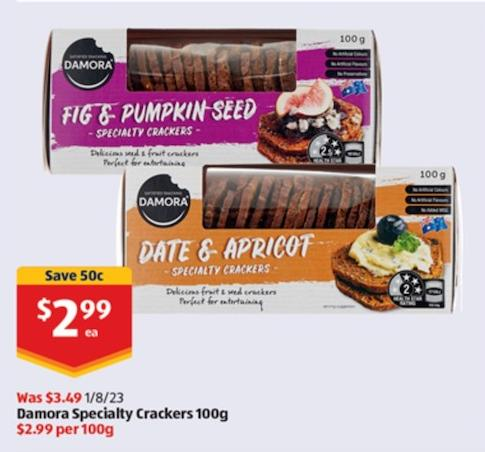description_block: (6, 404, 250, 426)
price_main: (23, 288, 130, 361)
product_image_block: (120, 18, 464, 326)
promo_text_block: (12, 256, 135, 284)
unit_price_block: (10, 421, 129, 441)
